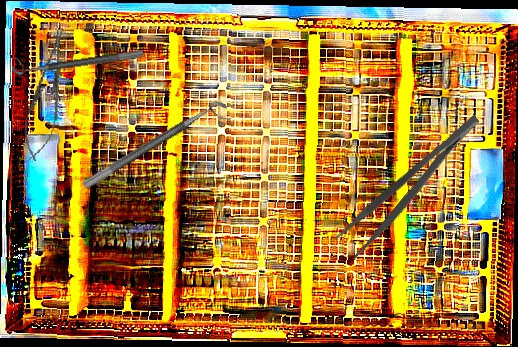Dressing Forceps: (332, 111, 494, 261)
Fixation Ring: (81, 96, 234, 202), (10, 38, 144, 77)
Needle Holder: (17, 24, 77, 164)
